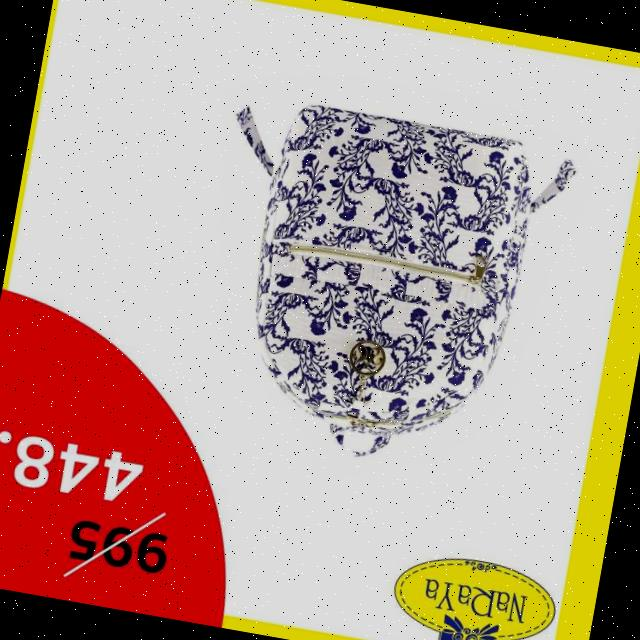Handbag: (224, 98, 546, 480)
